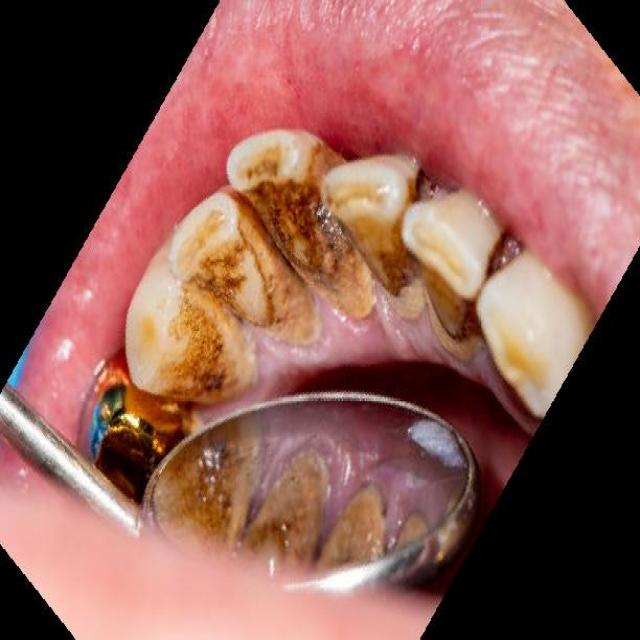calculus: (228, 128, 359, 305), (193, 194, 304, 348), (326, 161, 410, 312), (417, 212, 461, 353)
